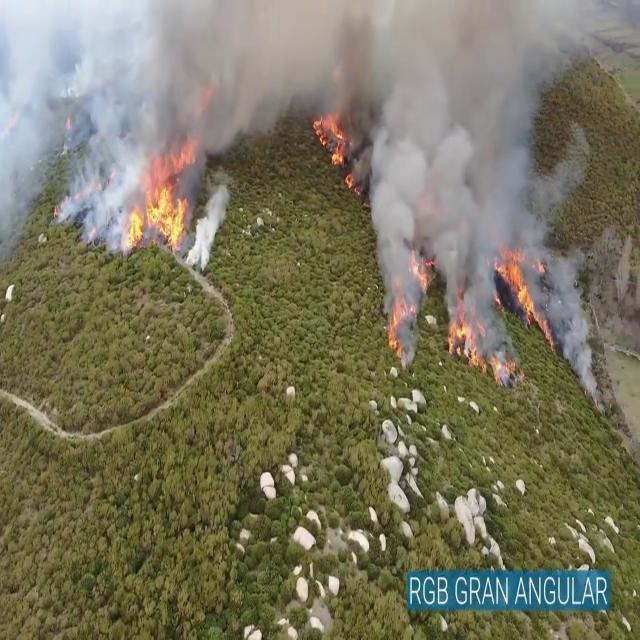Fire: (122, 154, 192, 260), (496, 240, 536, 324), (309, 103, 351, 172), (447, 309, 483, 369)
Smoke: (312, 0, 600, 352), (0, 0, 270, 263)
